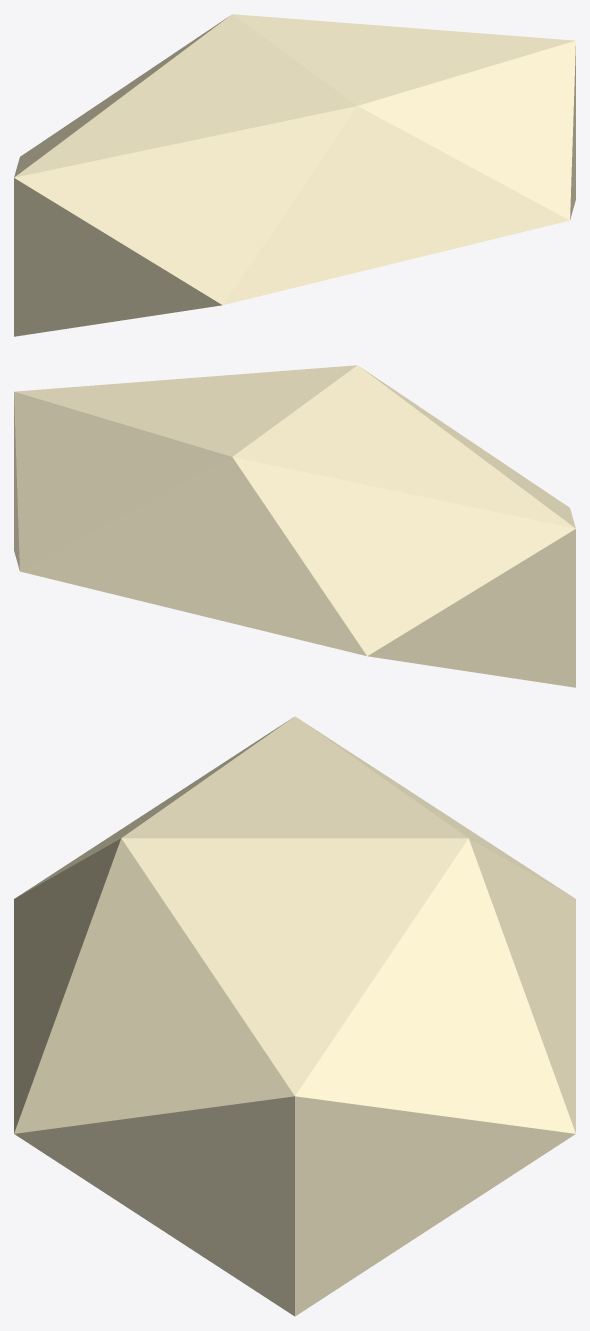
The model's file is mound.glb.
3 views of the same model, one above another, from view 1: azimuth 30°, elevation 25°; view 2: azimuth 150°, elevation 25°; view 3: azimuth 270°, elevation 25° (orthographic). The views are drawn at different scales.
Parts seen in each view (by area): view 1: Mound; view 2: Mound; view 3: Mound.
Part boxes in pixels (box(x1,y1,x2,y2)): Mound: box(14, 14, 575, 336); Mound: box(14, 365, 575, 687); Mound: box(14, 716, 575, 1316).
Bounding box in the file's own units: 1.63 × 0.5781 × 1.02.
